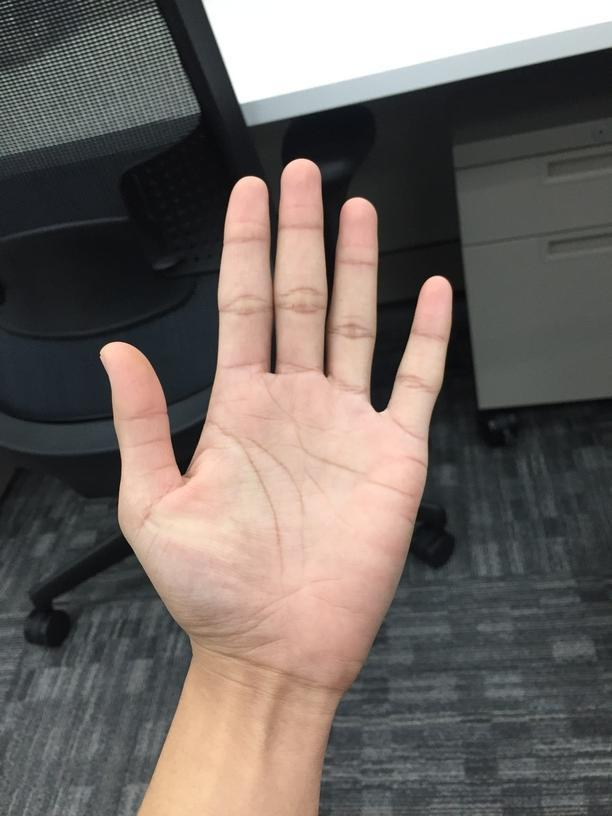hand: (99, 156, 454, 712)
